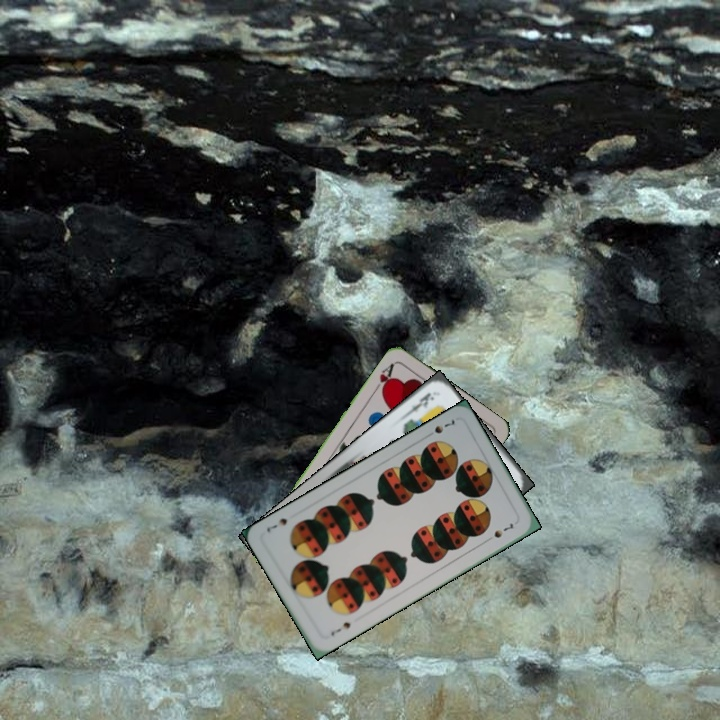EK: (402, 389, 437, 418)
HA: (369, 359, 397, 396)
S7: (422, 415, 458, 441), (327, 618, 353, 639)
